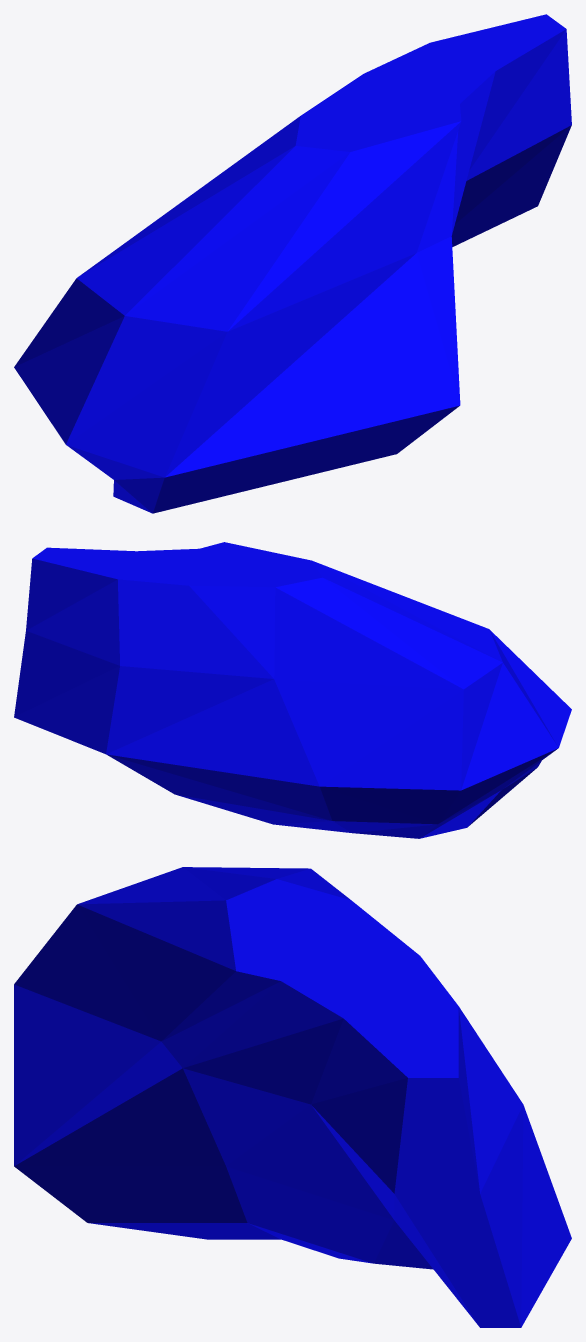
Rendered from RCollar_mesh.dae.
3 renders of one model, top to bottom at view 1: azimuth 30°, elevation 25°; view 2: azimuth 150°, elevation 25°; view 3: azimuth 270°, elevation 25°, orthographic. The views are drawn at different scales.
Parts seen in each view (by area): view 1: RCollar; view 2: RCollar; view 3: RCollar.
Boxes of the visible parts, box(x1,y1,x2,y2) form: RCollar: box(14, 14, 571, 513); RCollar: box(14, 542, 571, 838); RCollar: box(14, 867, 571, 1327).
Size of the model in its own units: 0.1994 by 0.0953 by 0.1276.
